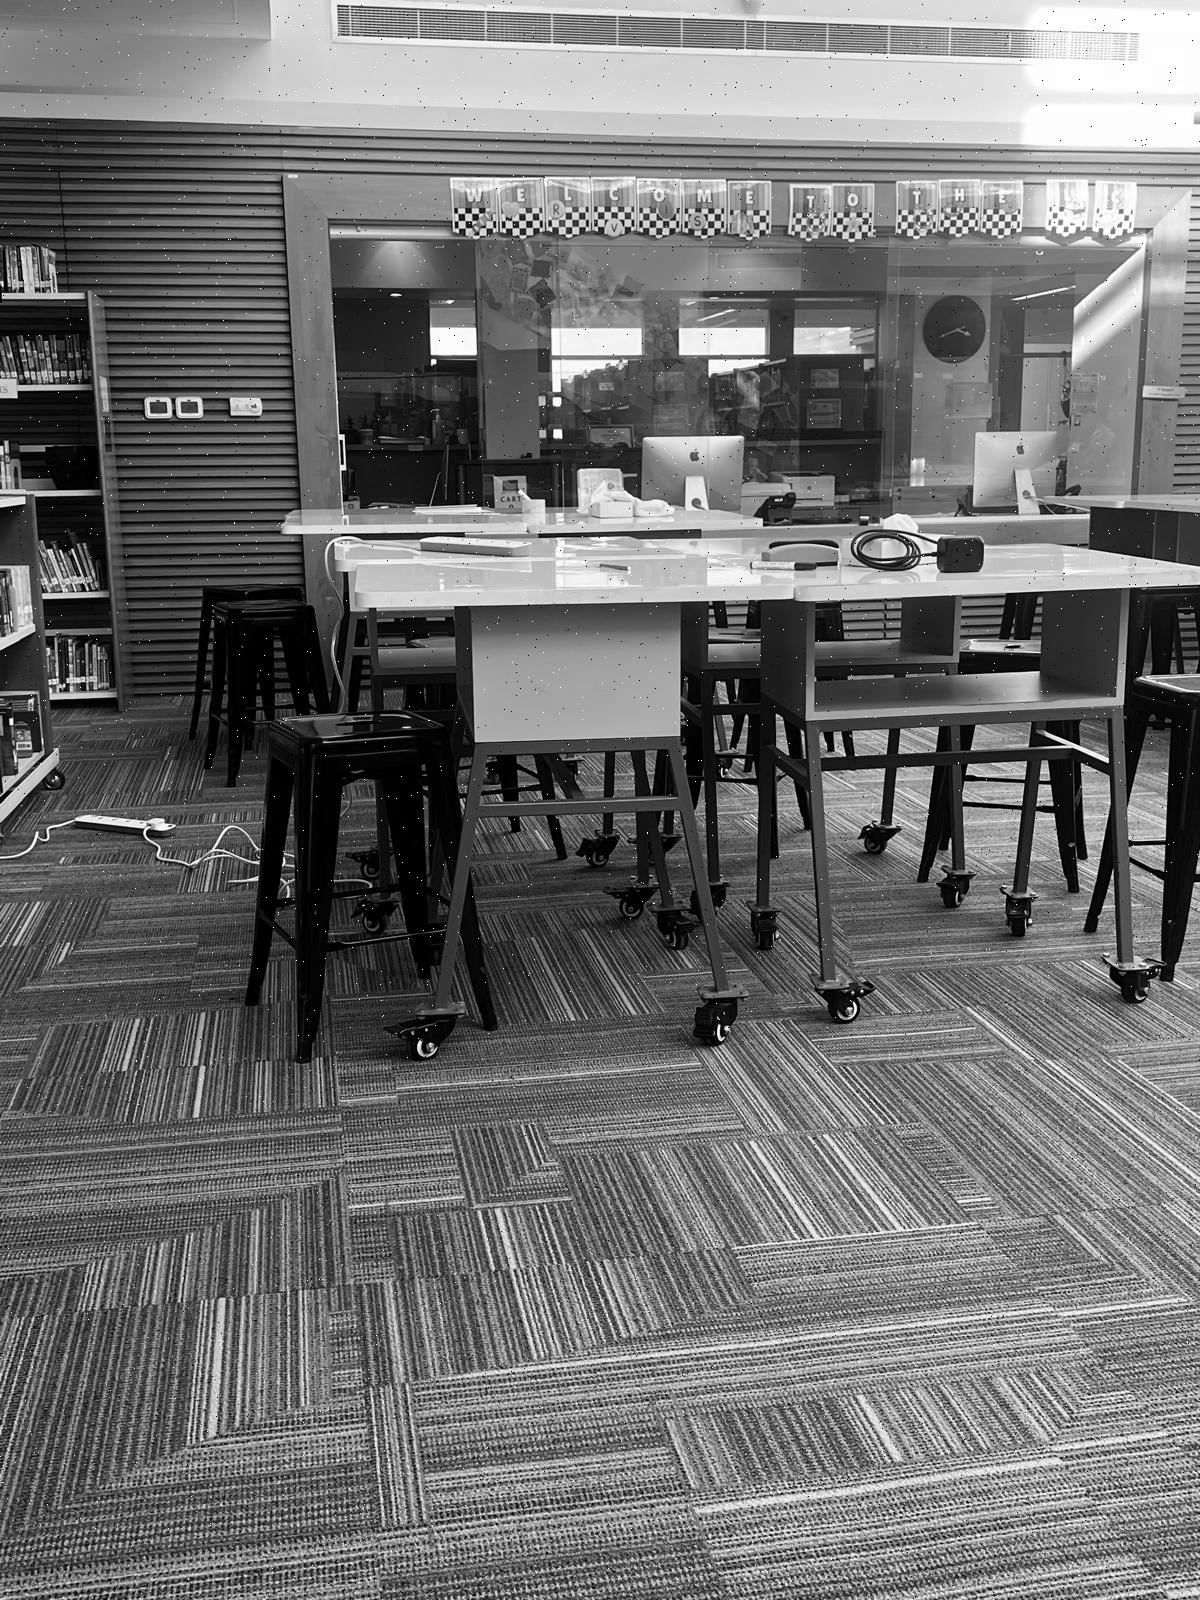Chair: (245, 712, 460, 1061), (204, 596, 326, 785), (1127, 673, 1199, 980)
Table: (333, 529, 1199, 1058)
Wall: (0, 121, 1199, 693)
